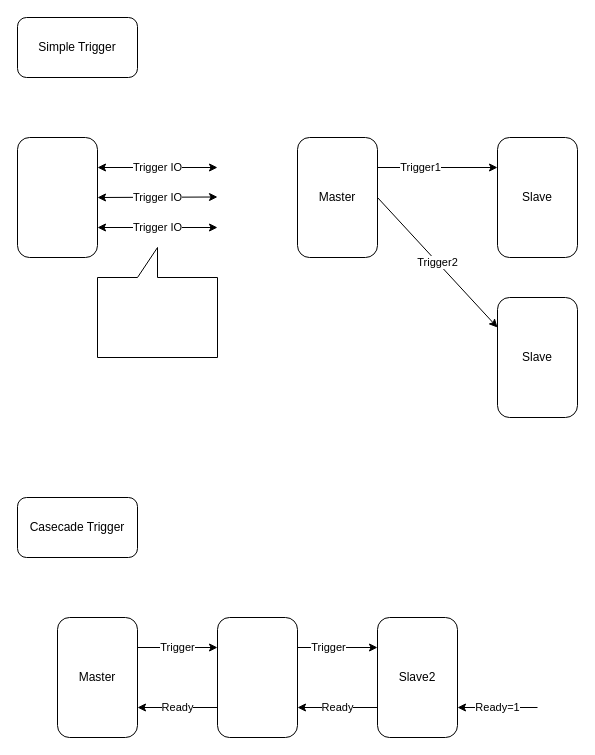
The diagram is 595 pixels wide and 755 high, and some of its shapes have lost their labels. Each missing label, with the centre of its shape:
DAQ: point (57, 197)
Salve1: point (257, 677)
Trigger are IO Port User can set it as Output or Input: point (157, 302)
